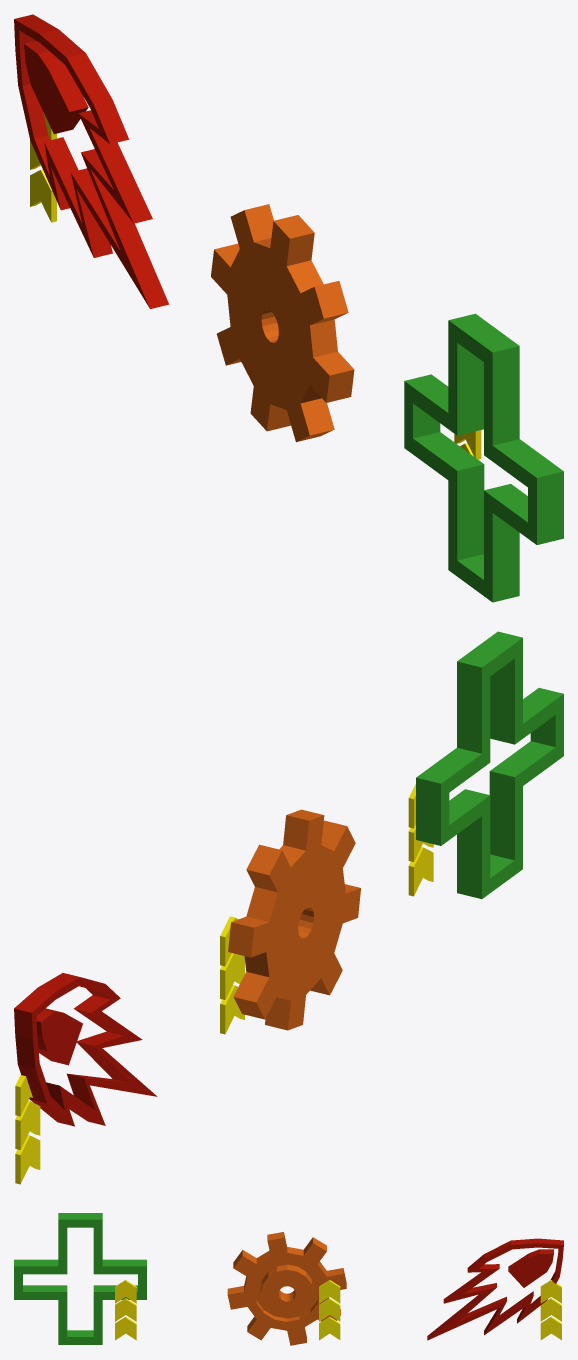
The model's file is power ups mesh shump.fbx.
3 renders of one model, top to bottom at view 1: azimuth 30°, elevation 25°; view 2: azimuth 150°, elevation 25°; view 3: azimuth 270°, elevation 25°, orthographic. The views are drawn at different scales.
Parts seen in each view (by area): view 1: healt up, scrap up, fire rate up; view 2: healt up, scrap up, fire rate up; view 3: scrap up, healt up, fire rate up.
Part boxes in pixels (x1,y1,x2,y2): healt up: (404,313,563,602); scrap up: (211,204,354,442); fire rate up: (14,14,169,308); healt up: (408,631,563,898); scrap up: (220,809,360,1034); fire rate up: (14,973,157,1184); scrap up: (227,1232,346,1345); healt up: (14,1213,146,1344); fire rate up: (427,1238,563,1340).
Size of the model in its own units: 39.59 by 208 by 827.
